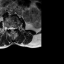CCS_normal: (11, 24, 13, 34)
LFS_normal: (15, 24, 17, 30)
LLS_normal: (13, 25, 15, 32)
RFS_normal: (7, 25, 9, 31)
RLS_normal: (9, 24, 11, 32)
